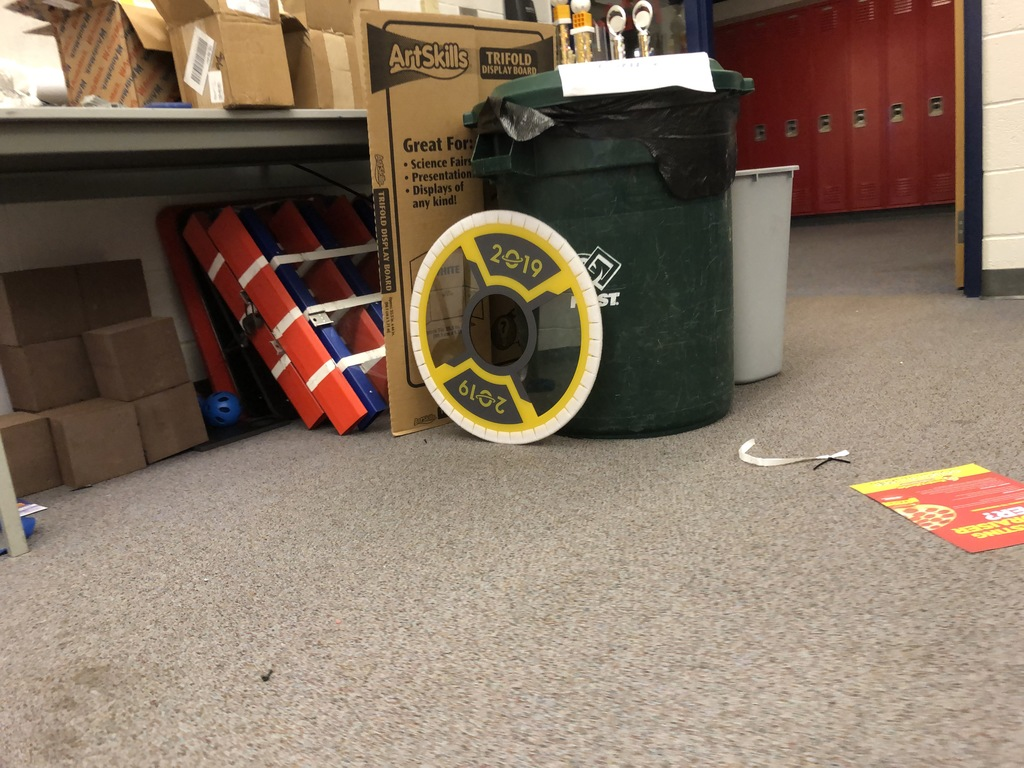hatch_panel: (407, 199, 616, 468)
